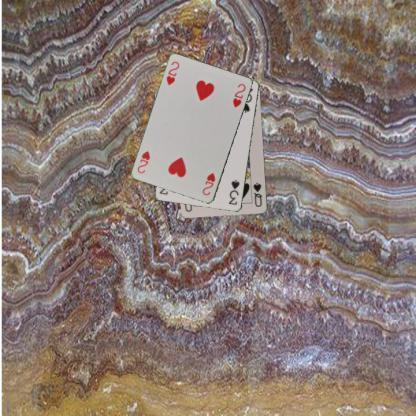2h: (200, 170, 217, 196), (164, 60, 181, 86)
3s: (226, 178, 240, 206)
Qs: (251, 180, 263, 208)
